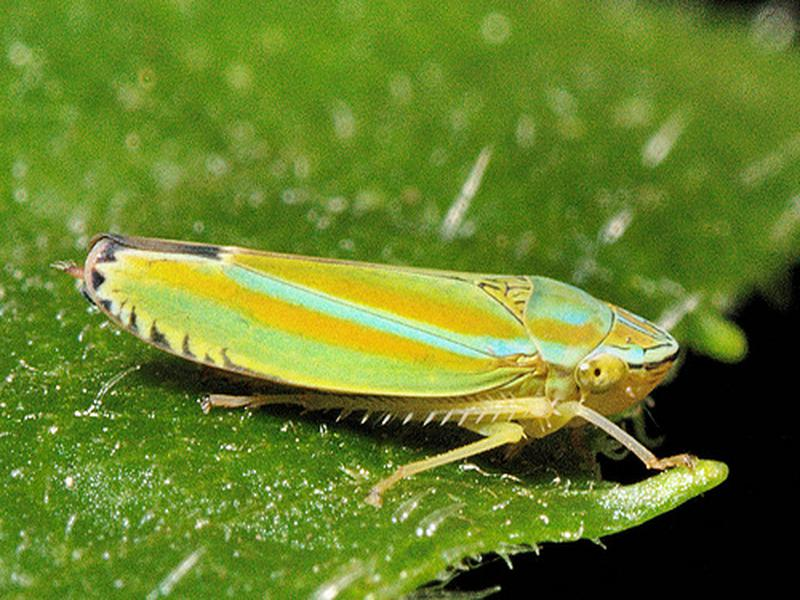Rice_earhead_bug: (68, 204, 697, 475)
